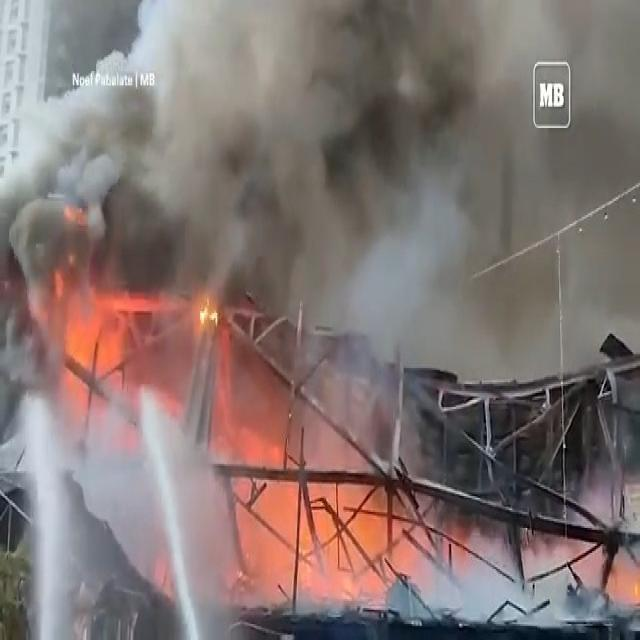Fire: (53, 230, 139, 470), (184, 284, 221, 328)
Smoke: (0, 0, 640, 373)
